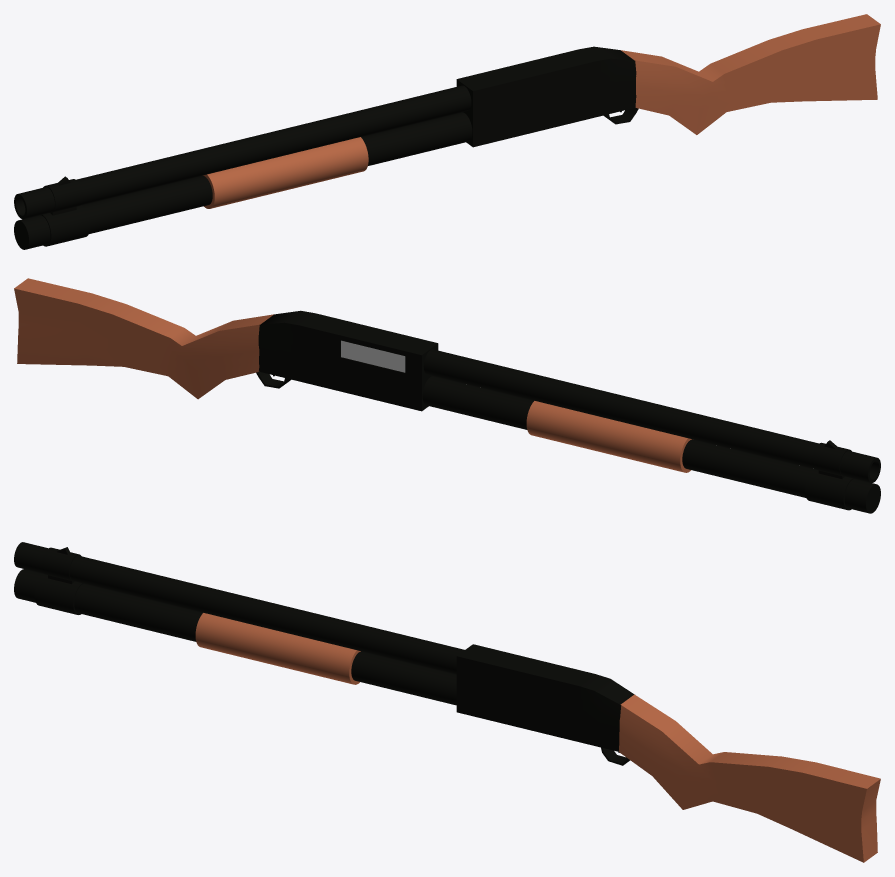
3 views of the same model, one above another, from view 1: azimuth 30°, elevation 25°; view 2: azimuth 150°, elevation 25°; view 3: azimuth 330°, elevation 25° (orthographic).
Visible parts, largest first — view 1: Cuerpo, Culata, Corredora; view 2: Cuerpo, Culata, Corredora, Cubo_6; view 3: Cuerpo, Culata, Corredora.
Boxes of the visible parts, box(x1,y1,x2,y2) form: Cuerpo: box(14, 46, 638, 249); Culata: box(621, 14, 880, 134); Corredora: box(203, 137, 368, 208); Cuerpo: box(256, 310, 880, 513); Culata: box(14, 278, 273, 399); Corredora: box(526, 401, 691, 472); Cubo_6: box(341, 340, 405, 372); Cuerpo: box(14, 542, 634, 765); Culata: box(619, 694, 880, 862); Corredora: box(195, 613, 360, 684).
Size of the model in its own units: 551 by 70.25 by 21.5.
